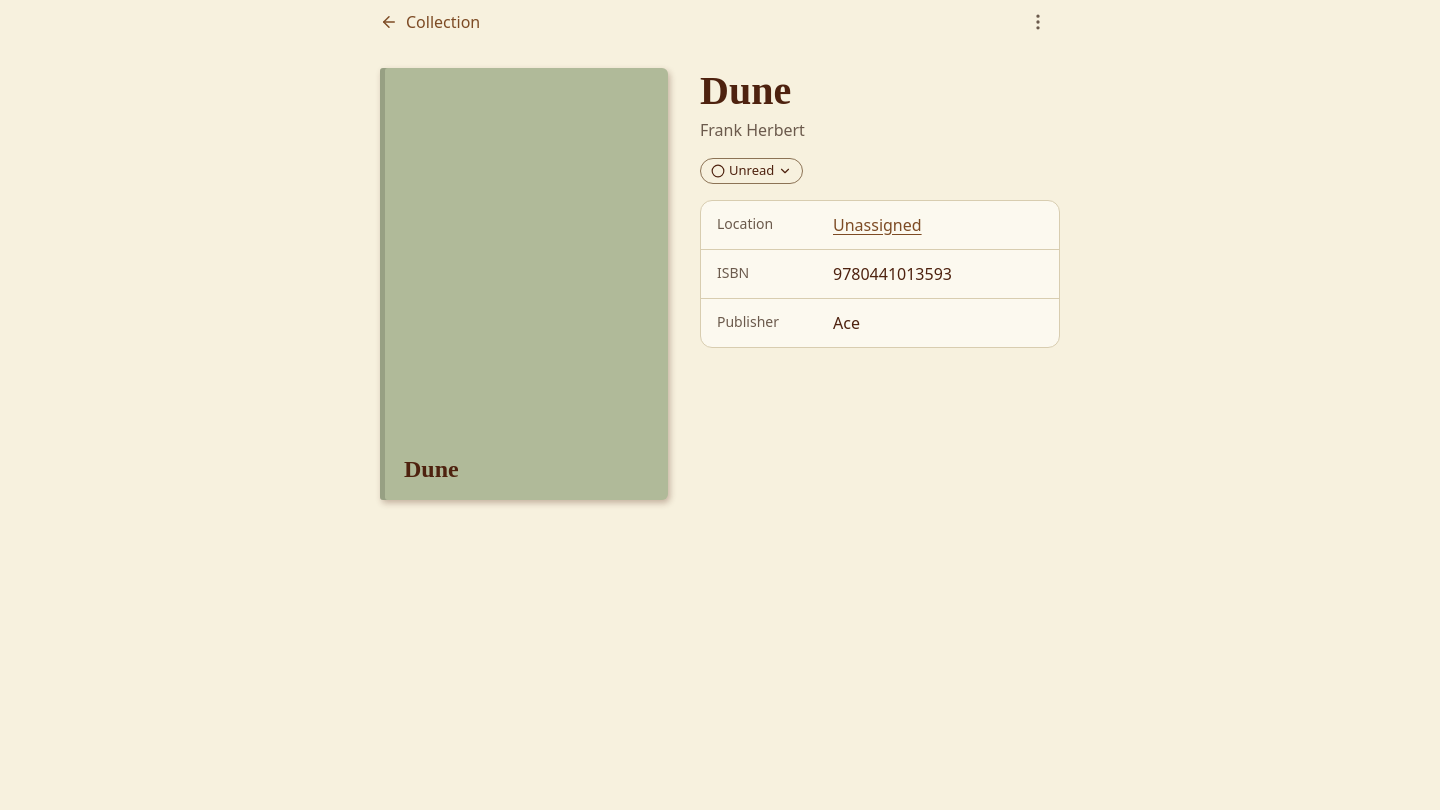
Scenario: US-06: removing a book › CT-21 asks for confirmation before deleting, and cancel keeps the book
expect the heading "Dune" is shown: met, box [700,68,791,113]
Click the button named "Actions for Dune" at [1038, 22], box [1016,0,1060,44]
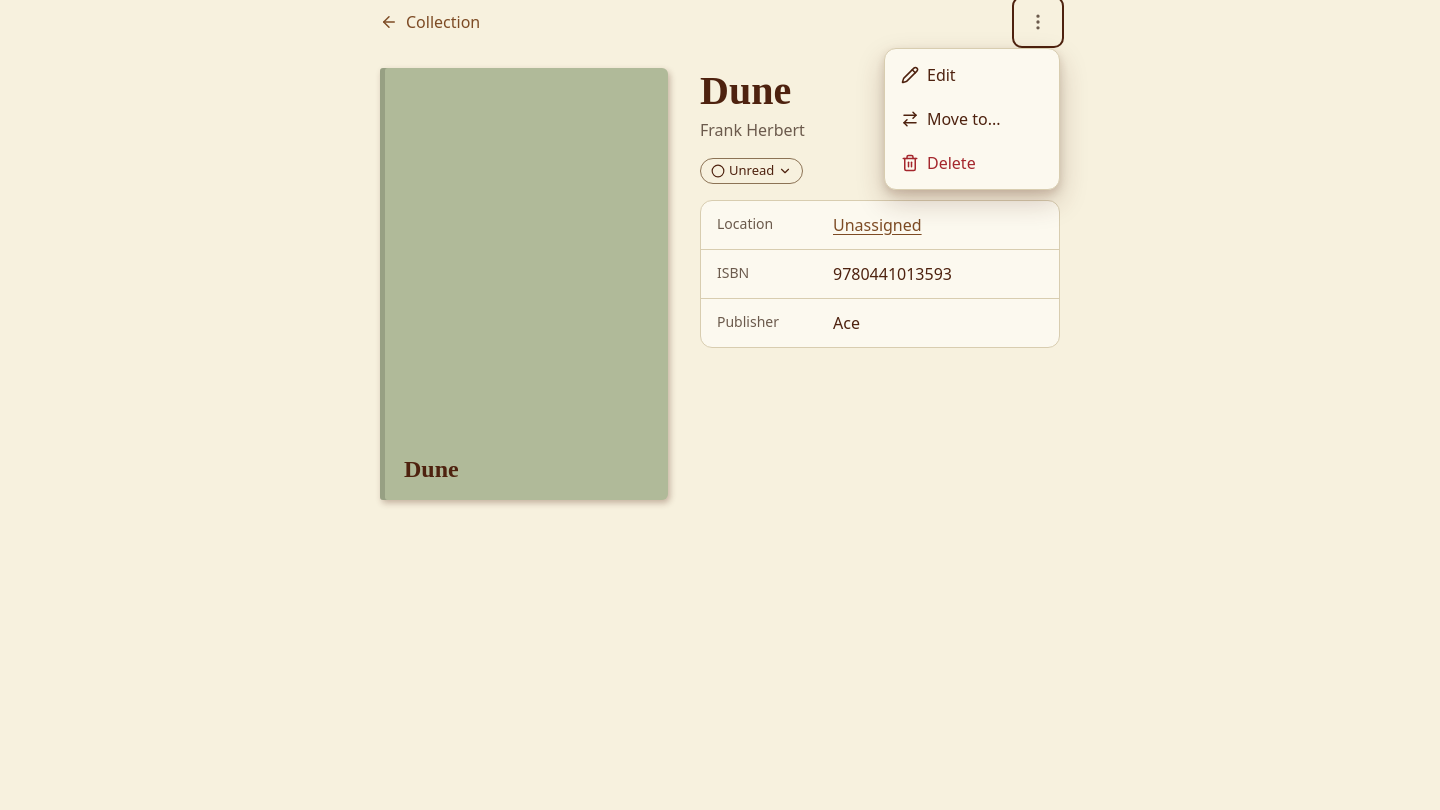
Click the button "Delete" at [972, 163], box [889,141,1055,185]
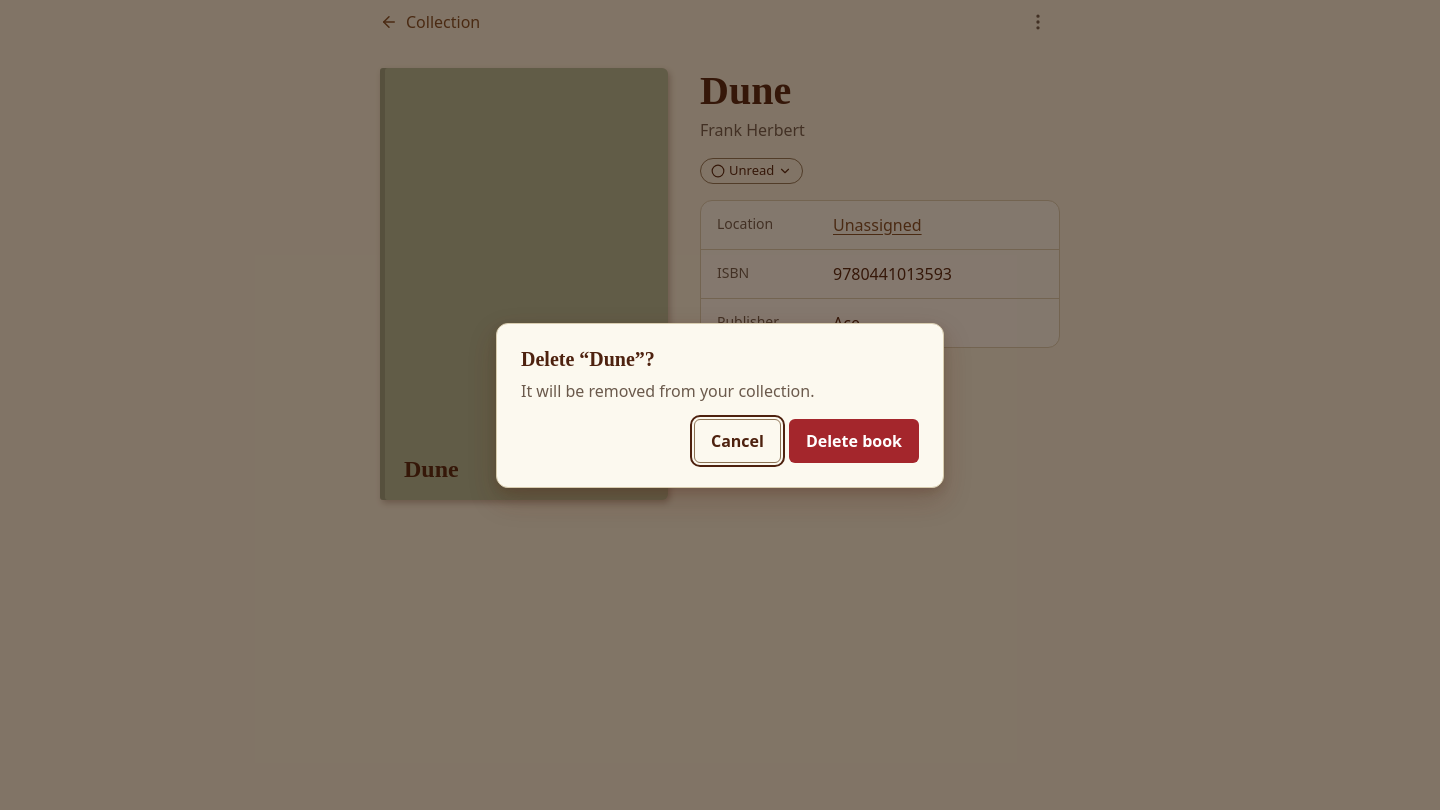
expect the dialog "Delete “Dune”?" shows "It will be removed from your collection.": met, box [521,380,814,402]
Click the button "Cancel" at [737, 440], box [694,418,781,462]
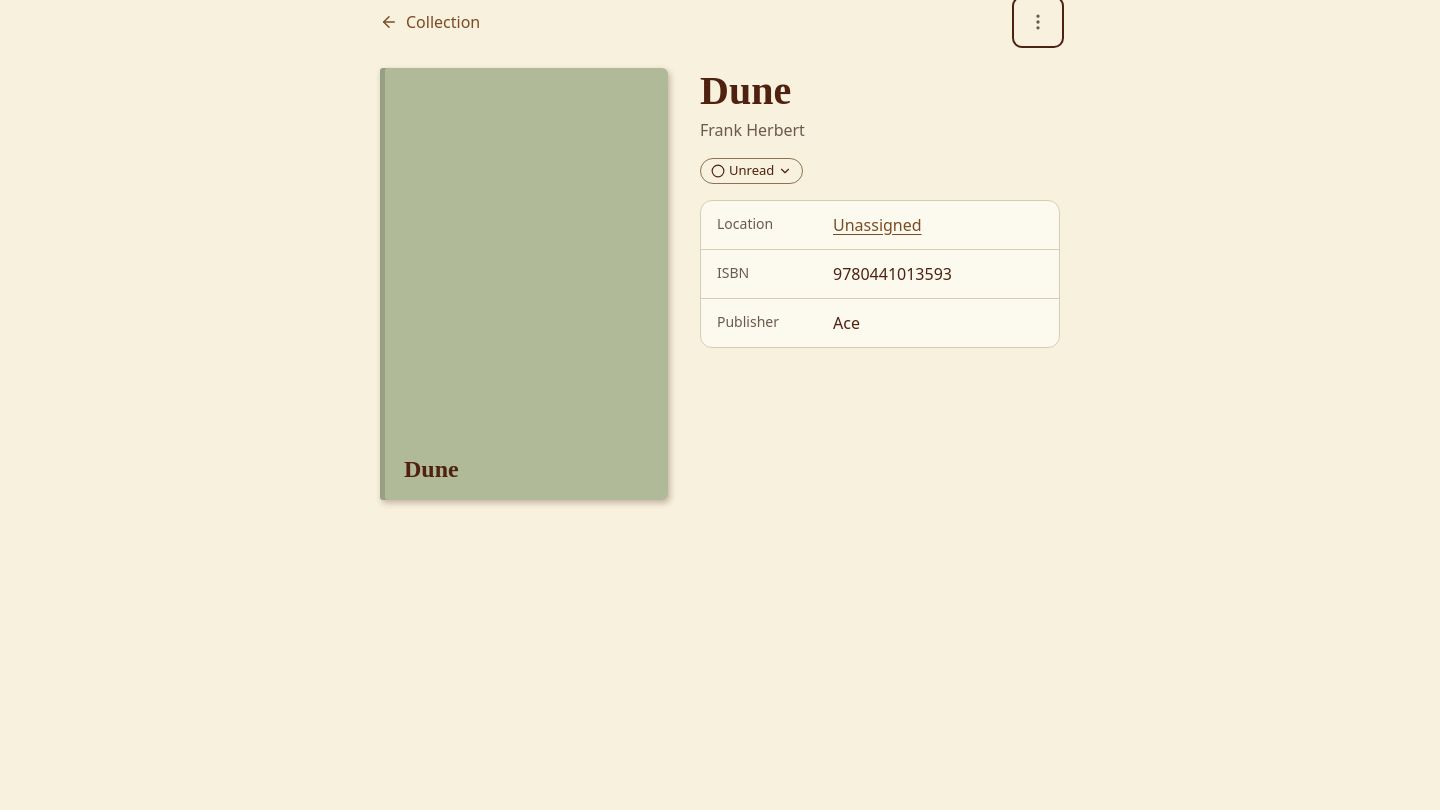
expect the heading "Dune" is shown: met, box [700,68,791,113]
expect the dialog is gone: met
